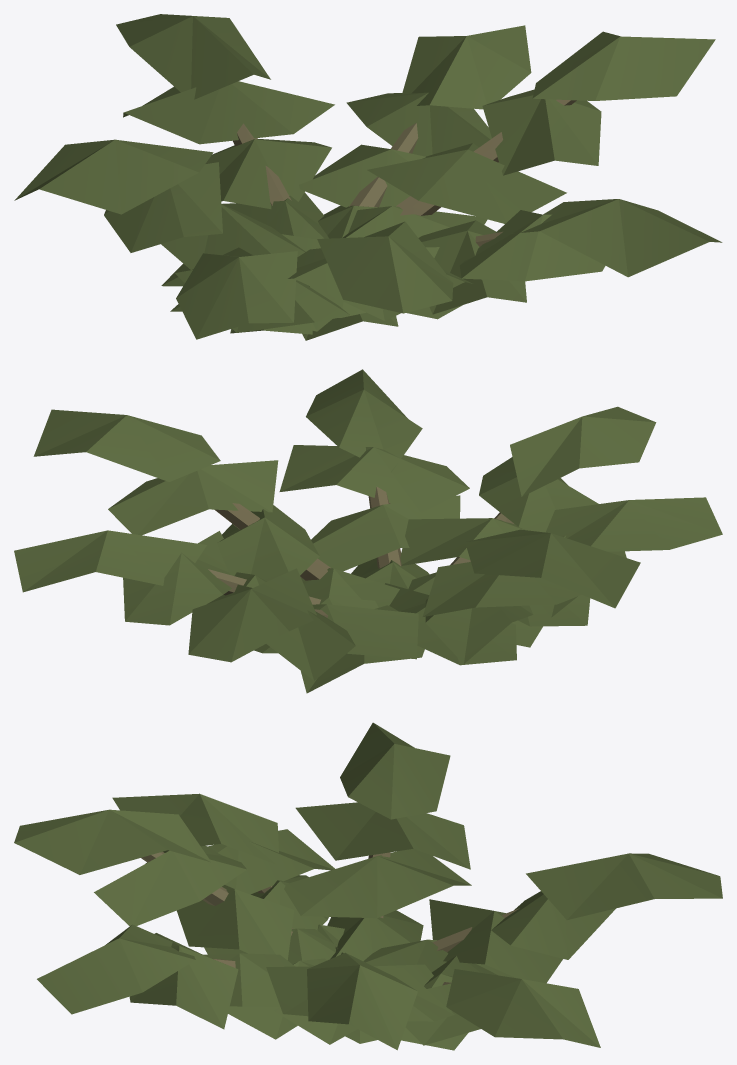
Rendered from taiga-lingonberry.glb.
3 renders of one model, top to bottom at view 1: azimuth 30°, elevation 25°; view 2: azimuth 150°, elevation 25°; view 3: azimuth 270°, elevation 25°, orthographic. The views are drawn at different scales.
Visible parts, largest first — view 1: Брусника; view 2: Брусника; view 3: Брусника.
Boxes of the visible parts, x1,y1,x2,y2 form: Брусника: (14, 14, 722, 340); Брусника: (14, 369, 722, 693); Брусника: (14, 722, 722, 1050).
Size of the model in its own units: 1.1 by 0.2987 by 1.1.
